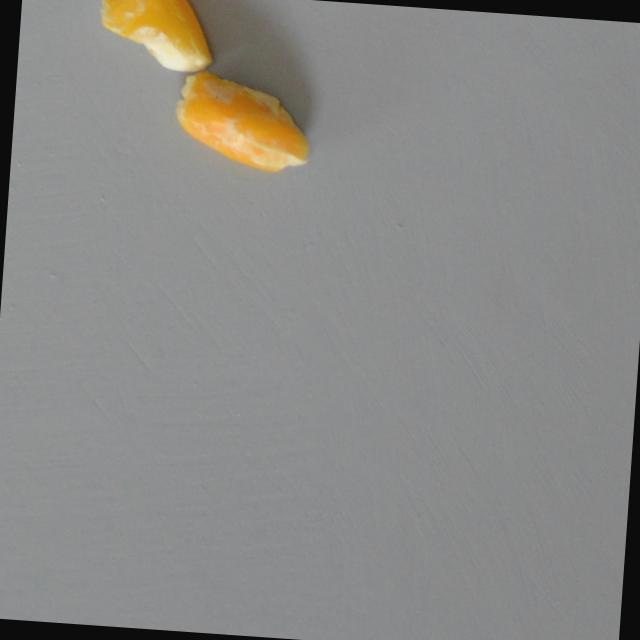pelicula: (92, 0, 218, 75)
punto_negro: (167, 66, 320, 177)
